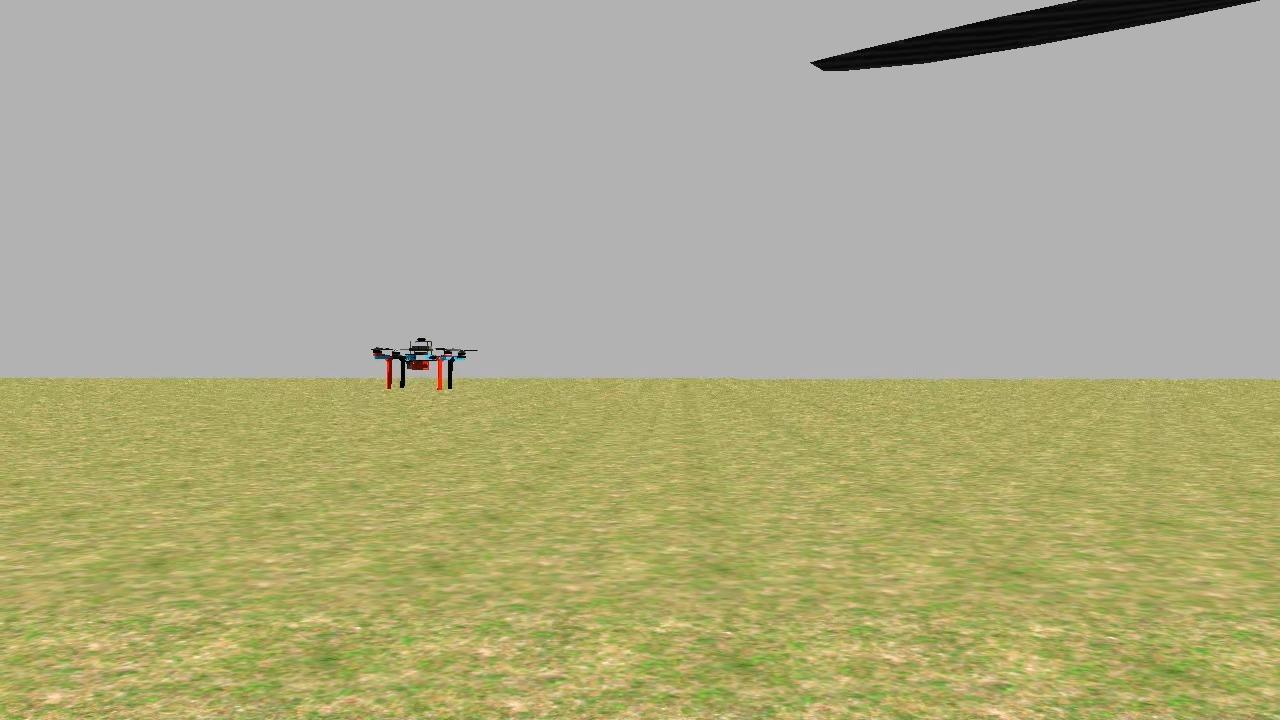UAV: (357, 330, 478, 391)
